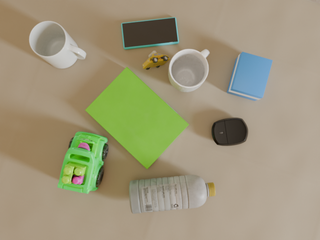book: (85, 67, 189, 169)
bottle: (129, 175, 215, 214)
box: (227, 52, 272, 101)
cup: (29, 21, 86, 68), (168, 49, 209, 92)
mouse: (212, 118, 248, 146)
phone: (121, 17, 179, 49)
toy_car: (58, 132, 108, 193), (143, 51, 170, 70)
